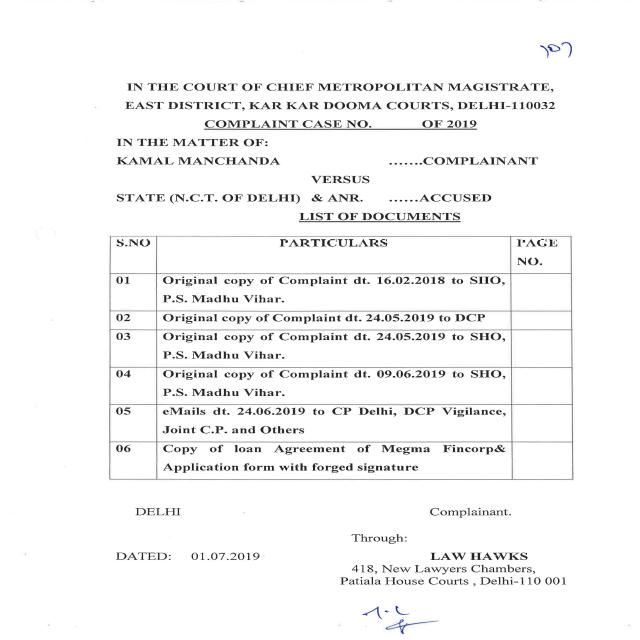page-number: (0, 0, 640, 73)
